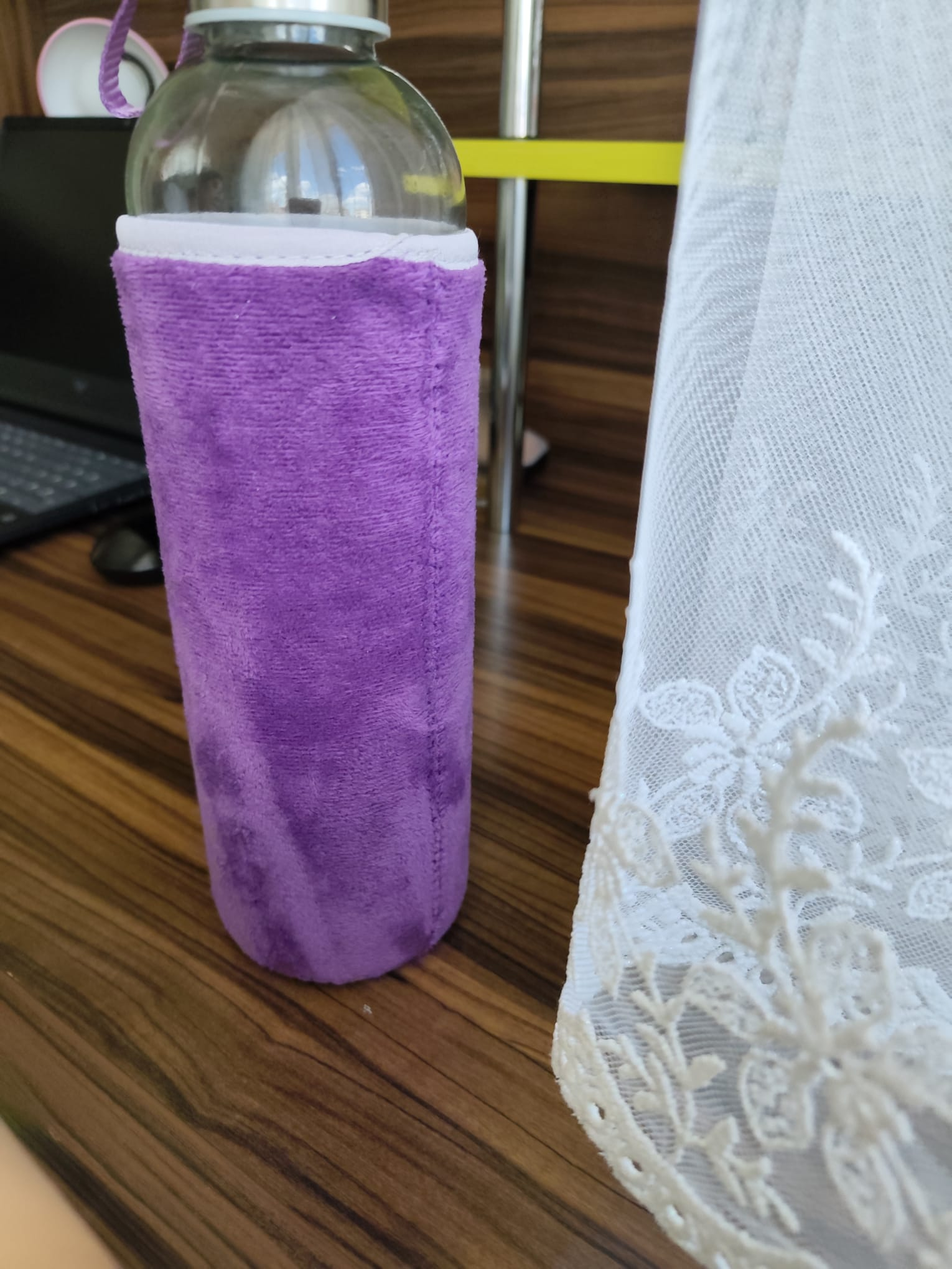su_sisesi: (75, 4, 521, 1001)
